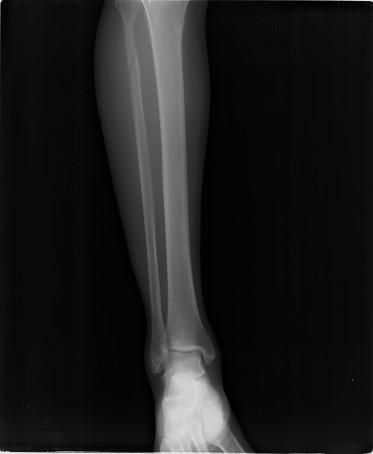fractured: (124, 40, 140, 81)
